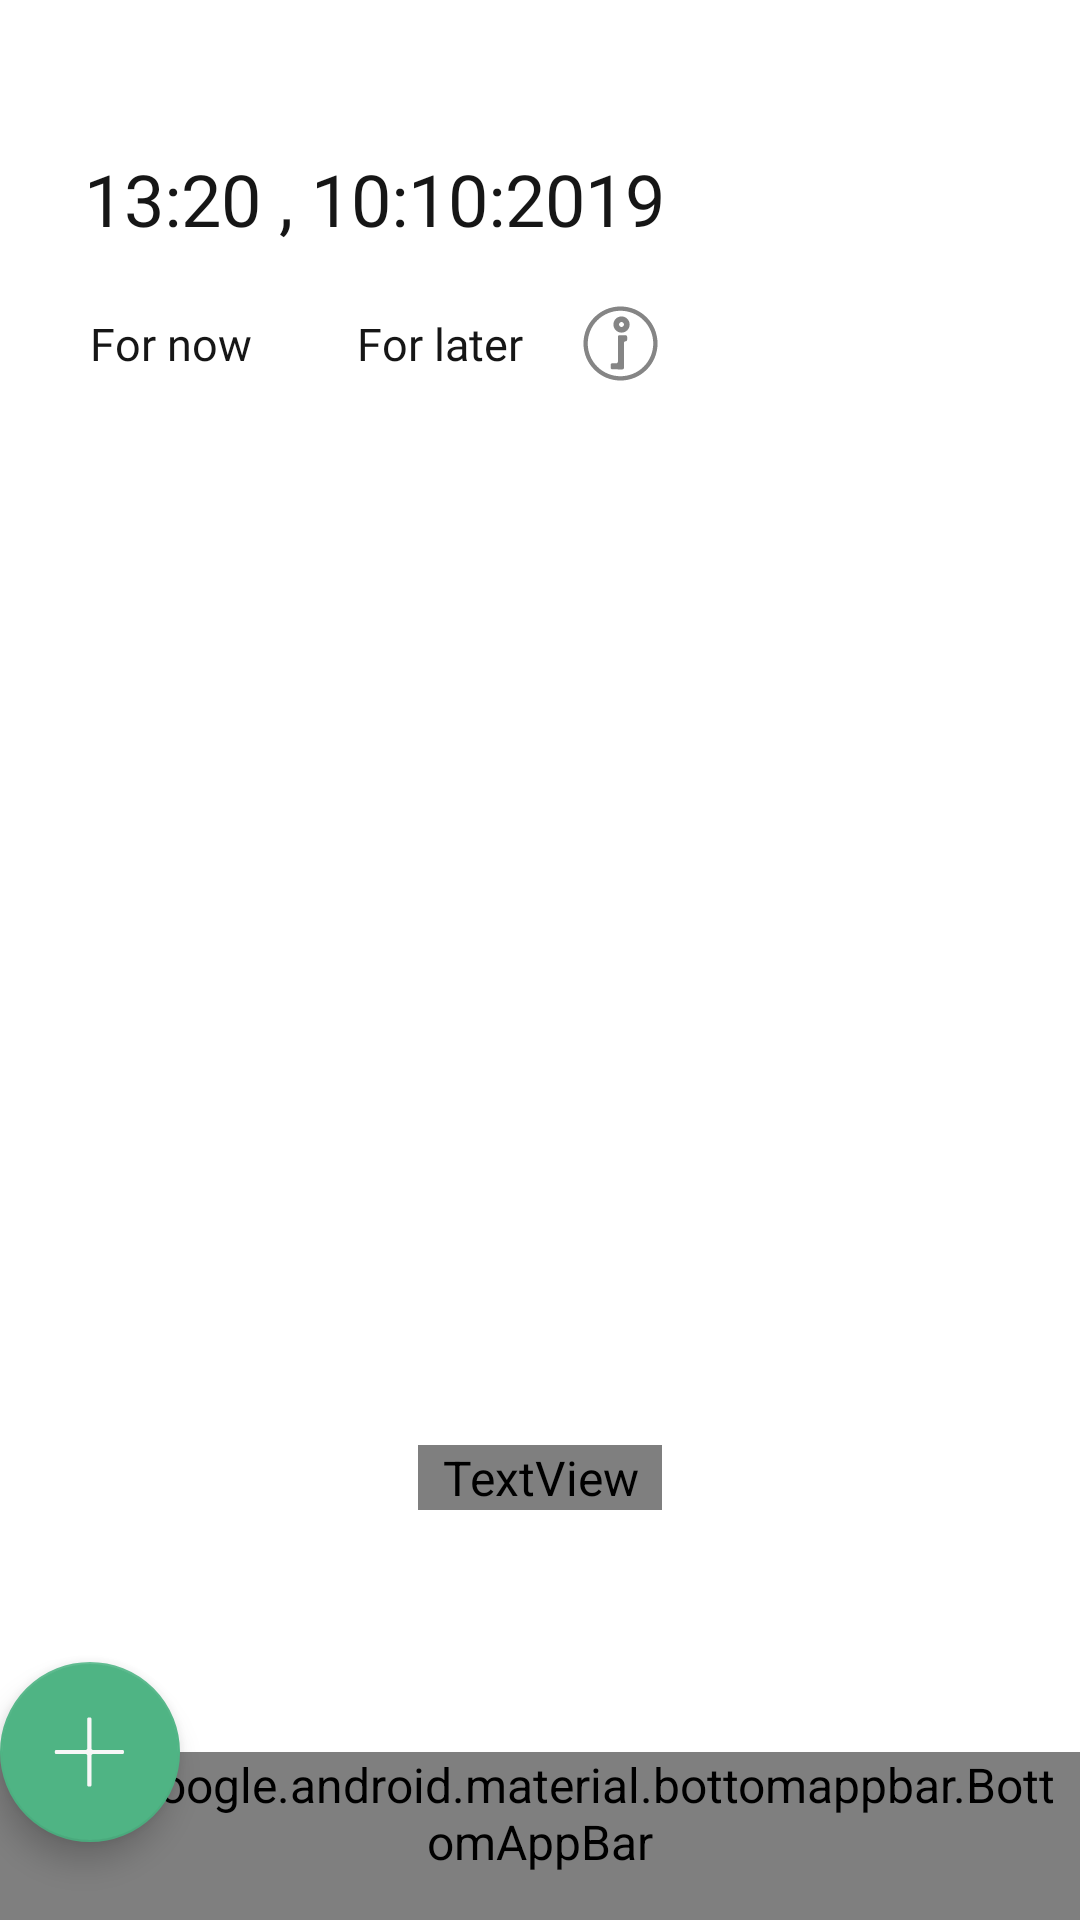

Icon click points for this 1080px x 1920px phone screenshot, format point (x, y):
add: point (90, 1752)
info: point (620, 343)
